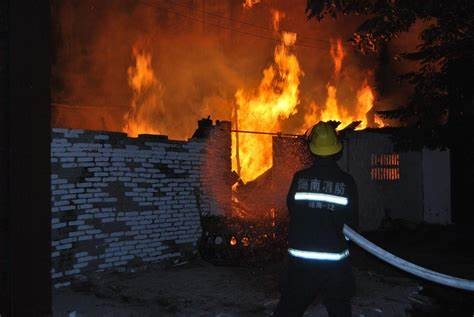fire: (226, 35, 303, 167), (120, 39, 169, 136), (299, 80, 388, 131)
